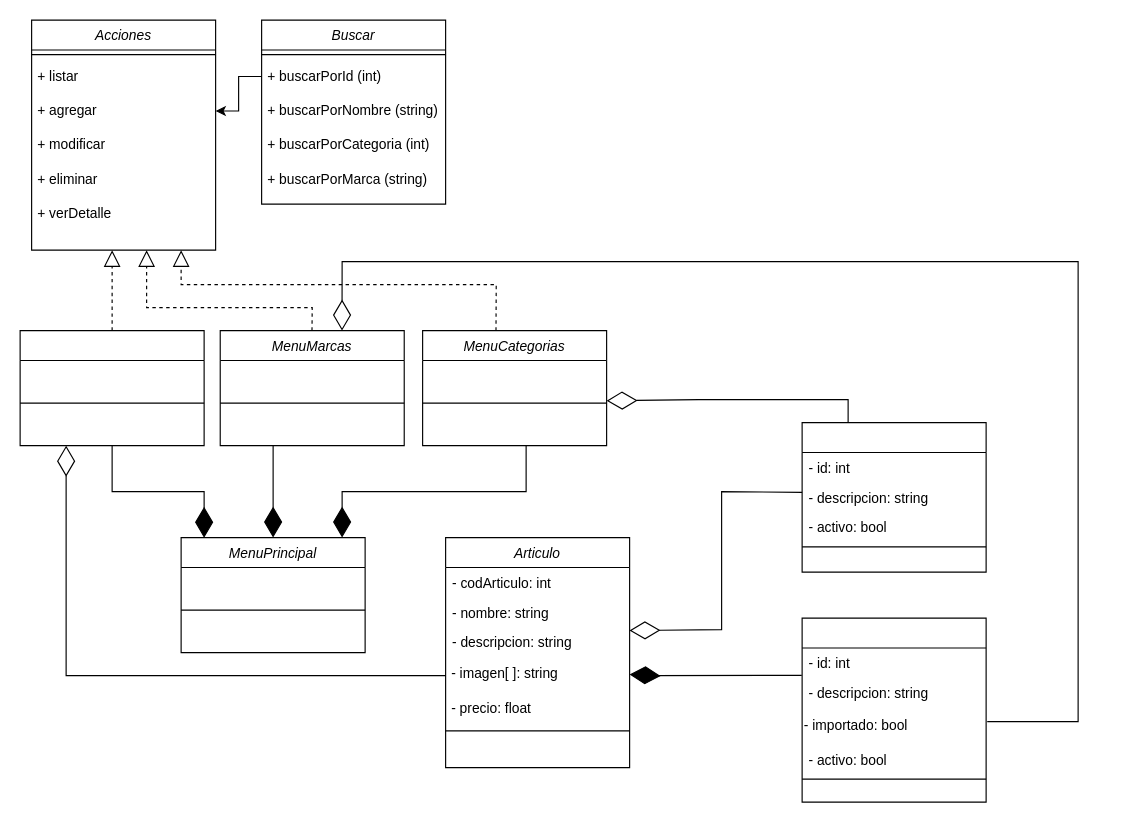
The diagram is 1128 pixels wide and 822 high, and some of its shapes have lost their labels. Here are the shapes that lost their labels. From the top down, the box of each, then its label:
(19, 329, 204, 446): MenuArticulo
(801, 421, 986, 572): Categoria
(801, 617, 986, 802): Marca
